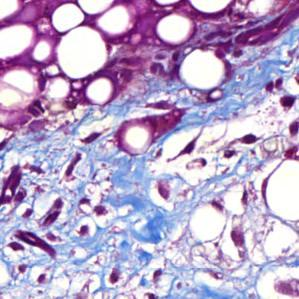steatosis: (57, 28, 110, 77), (180, 49, 226, 92), (156, 14, 193, 46), (46, 3, 85, 33)
